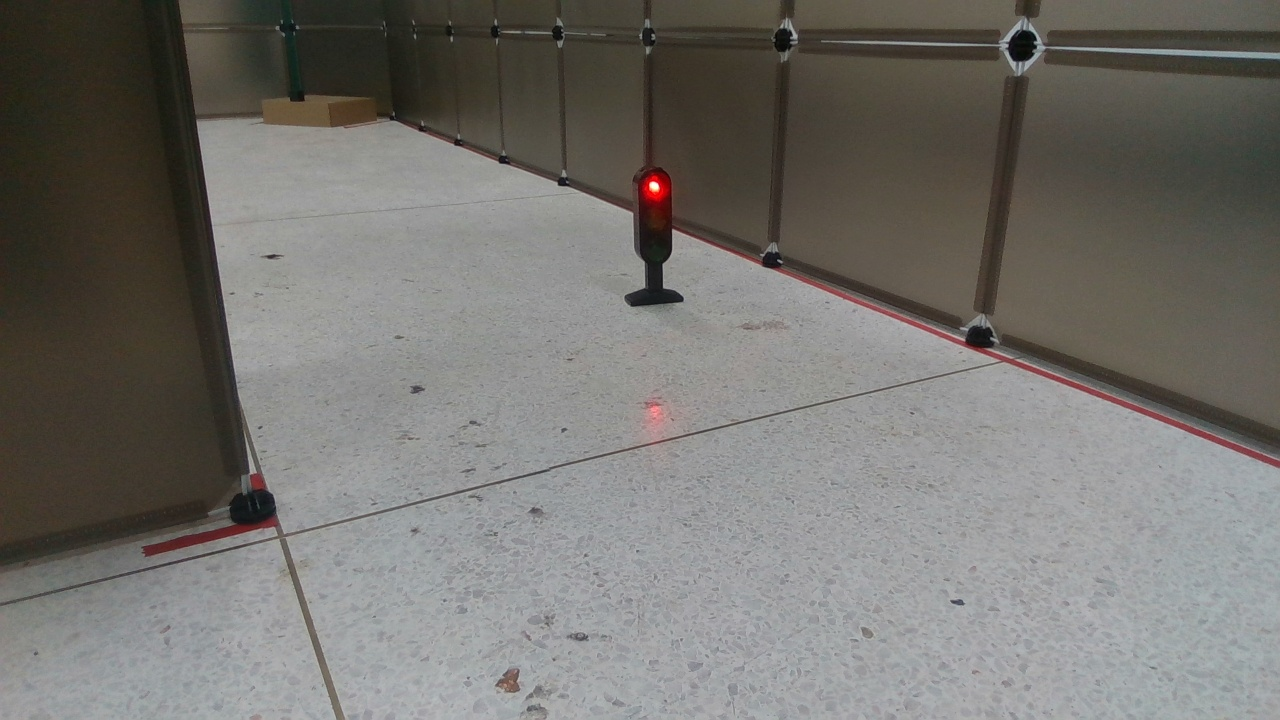Red traffic light: (620, 163, 689, 307)
